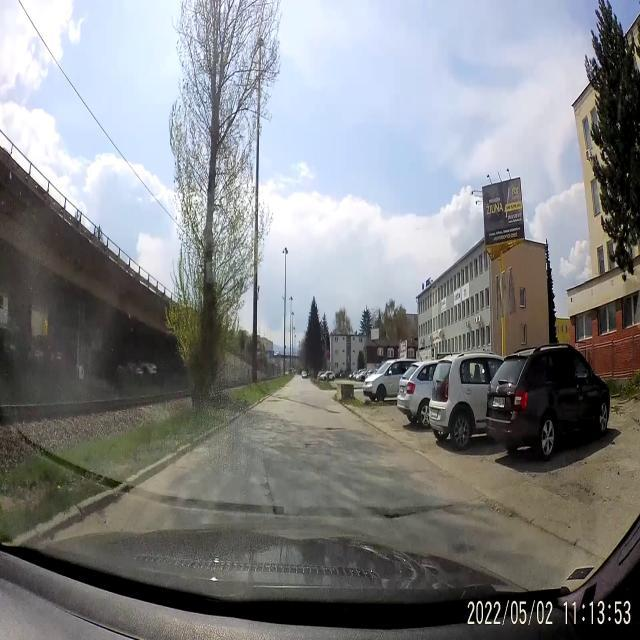Pothole: (376, 498, 412, 528), (322, 424, 345, 439)
